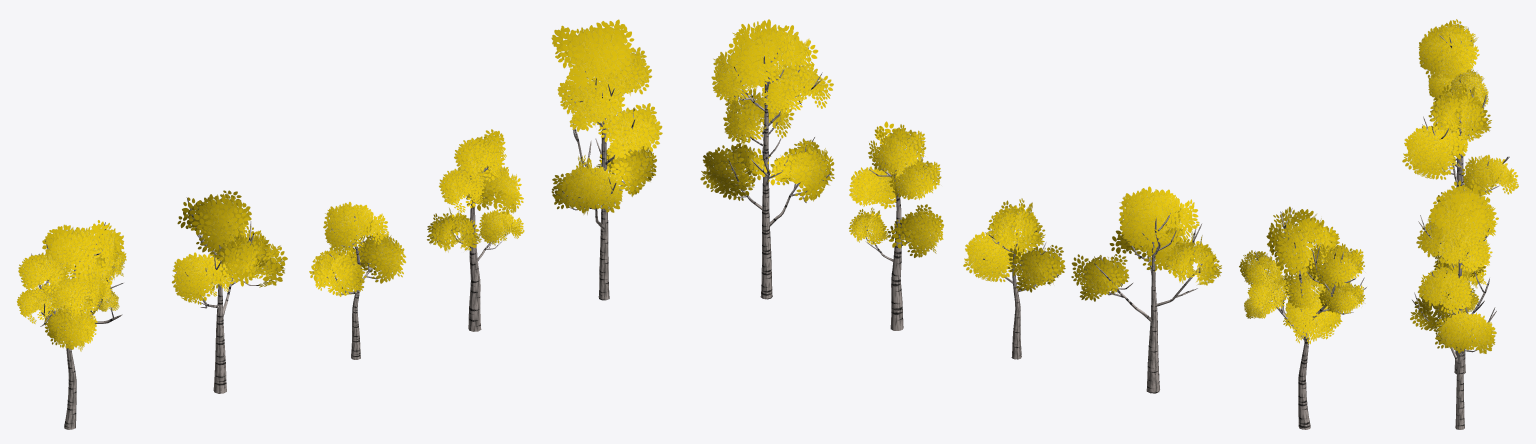
The model's file is BirchTrees.glb.
3 renders of one model, left to right at view 1: azimuth 30°, elevation 25°; view 2: azimuth 150°, elevation 25°; view 3: azimuth 270°, elevation 25°, orthographic. The views are drawn at different scales.
Visible parts, largest first — view 1: BirchTree_3; view 2: BirchTree_3; view 3: BirchTree_3.
Boxes of the visible parts, x1=… form: BirchTree_3: x1=16, y1=19, x2=662, y2=429; BirchTree_3: x1=700, y1=19, x2=1366, y2=429; BirchTree_3: x1=1402, y1=19, x2=1518, y2=429.
Size of the model in its own units: 18.56 by 7.57 by 3.51.
2 materials, 2 textured.
